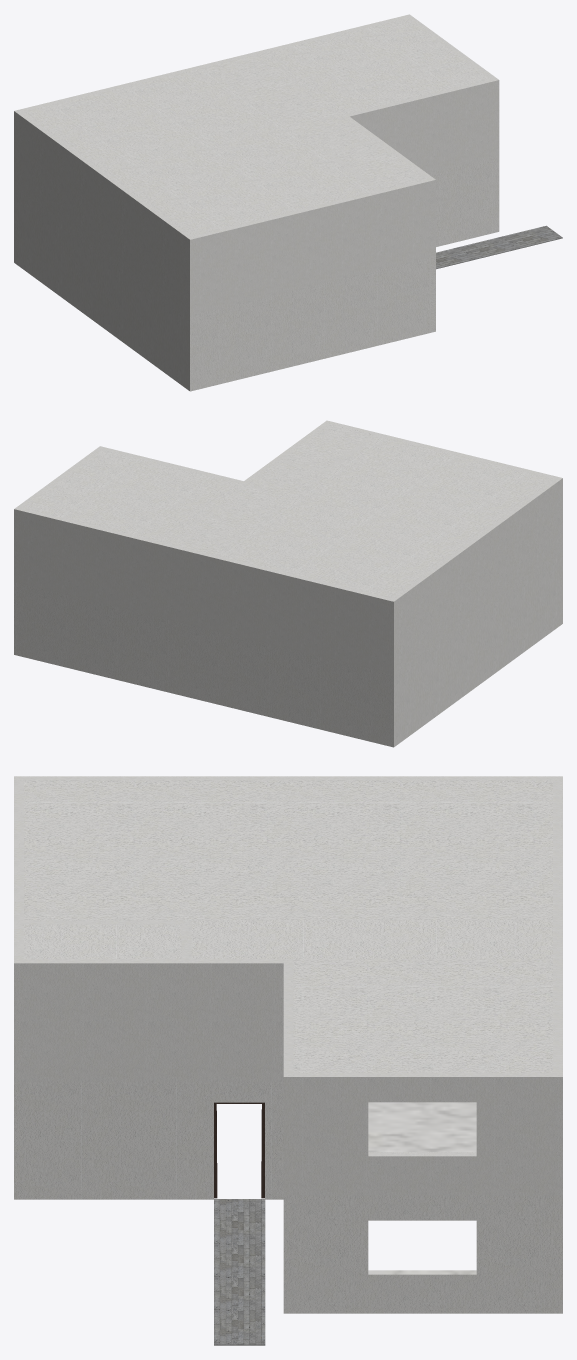
Rendered from casa_estructura.fbx.
3 views of the same model, one above another, from view 1: azimuth 30°, elevation 25°; view 2: azimuth 150°, elevation 25°; view 3: azimuth 270°, elevation 25° (orthographic). The views are drawn at different scales.
Parts seen in each view (by area): view 1: P2_techo, P2_pared, PB_Pared, Banqueta; view 2: P2_techo, P2_pared, PB_Pared; view 3: P2_techo, P2_pared, PB_Pared, Banqueta, PB_techo, MarcoPuertaPrincipal.
Boxes of the visible parts, box(x1,y1,x2,y2) form: P2_techo: box(23, 18, 489, 235); P2_pared: box(14, 14, 499, 315); PB_Pared: box(14, 156, 499, 391); Banqueta: box(436, 225, 562, 269); P2_techo: box(22, 424, 553, 598); P2_pared: box(14, 420, 562, 674); PB_Pared: box(14, 551, 562, 747); P2_techo: box(24, 780, 552, 1072); P2_pared: box(14, 776, 562, 1195); PB_Pared: box(14, 1081, 562, 1313); Banqueta: box(214, 1199, 265, 1345); PB_techo: box(368, 1102, 476, 1152); MarcoPuertaPrincipal: box(214, 1102, 264, 1198).
Size of what is drawn, in the model's own units: 1818 by 605 by 1269.
